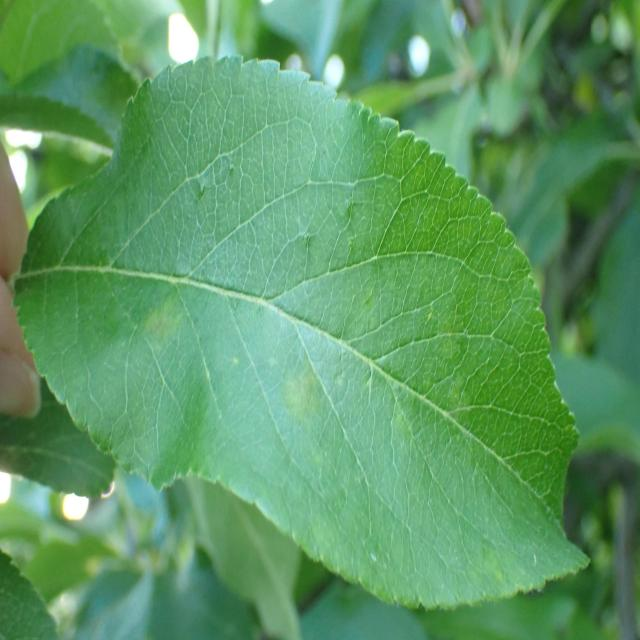scab: (131, 260, 481, 529)
